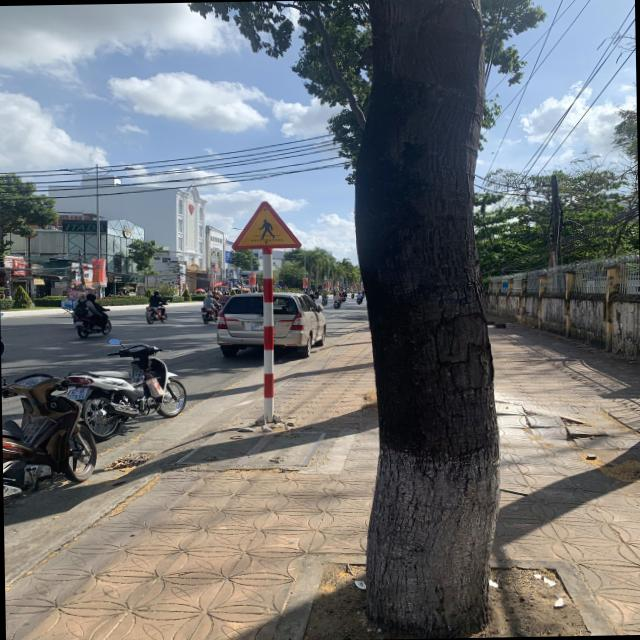Duong_Nguoi_Di_Bo_Sang_Ngang: (231, 200, 302, 250)
